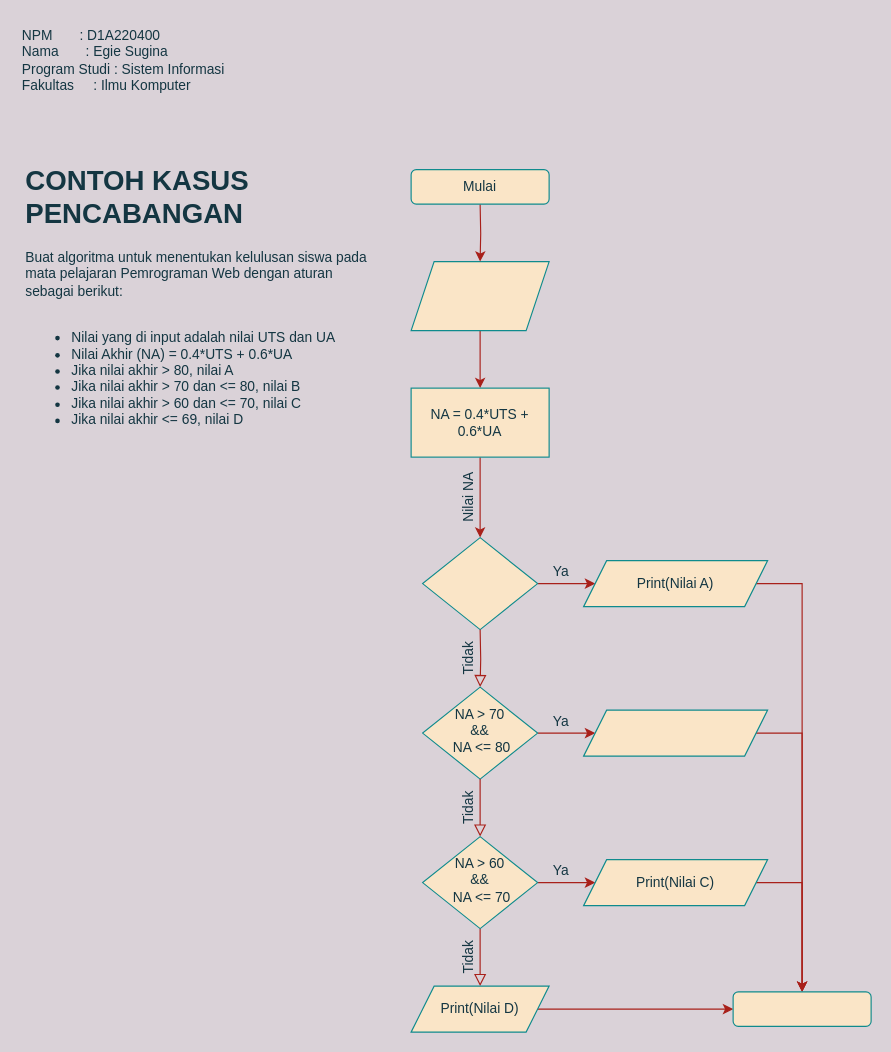
The diagram is 891 pixels wide and 1052 high, and some of its shapes have lost their labels. The shapes that lost their labels are listed below. From the top down, each one's box as (x1, y1, x2, y2) in pixels, then its label:
(410, 260, 549, 331): Input(UTS,UA)
(421, 536, 538, 630): NA > 80
(582, 709, 768, 756): Print(Nilai B)
(732, 991, 871, 1026): Selesai
